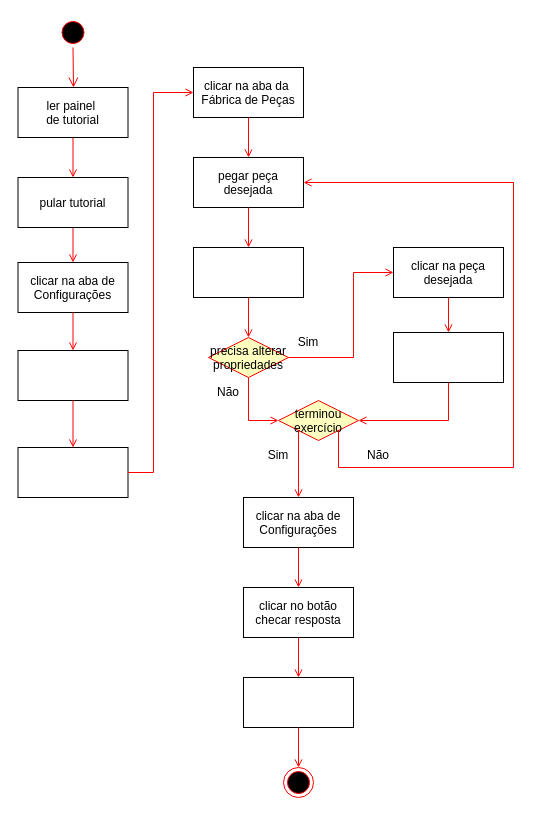
This 539x815 diagram has some shape labels left out. The shapes that lost their labels are listed below. From the top down, each one's centre as x and y in pixels, then its label:
At (x=248, y=272): "arrastar peça até o lugar desejado".
At (x=72, y=375): "clicar no checkbox do exercício desejado".
At (x=448, y=357): "mudar valor das propriedades desejadas".
At (x=72, y=472): "ler enunciado do exercício".
At (x=298, y=702): "ler resposta dada pela aplicação".
